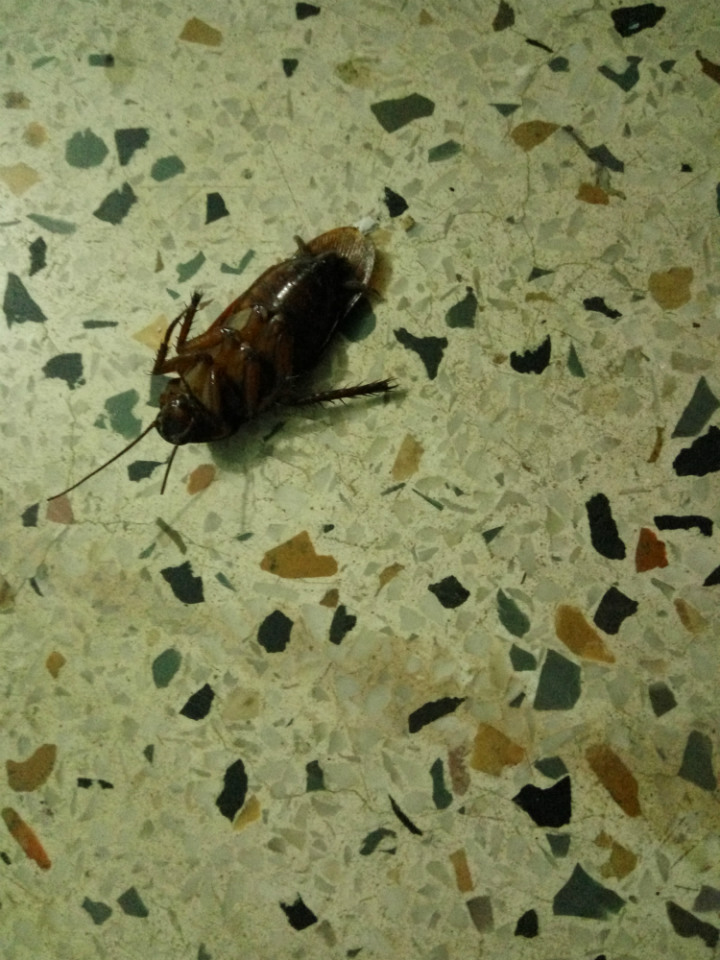cockroach: (18, 135, 513, 568)
